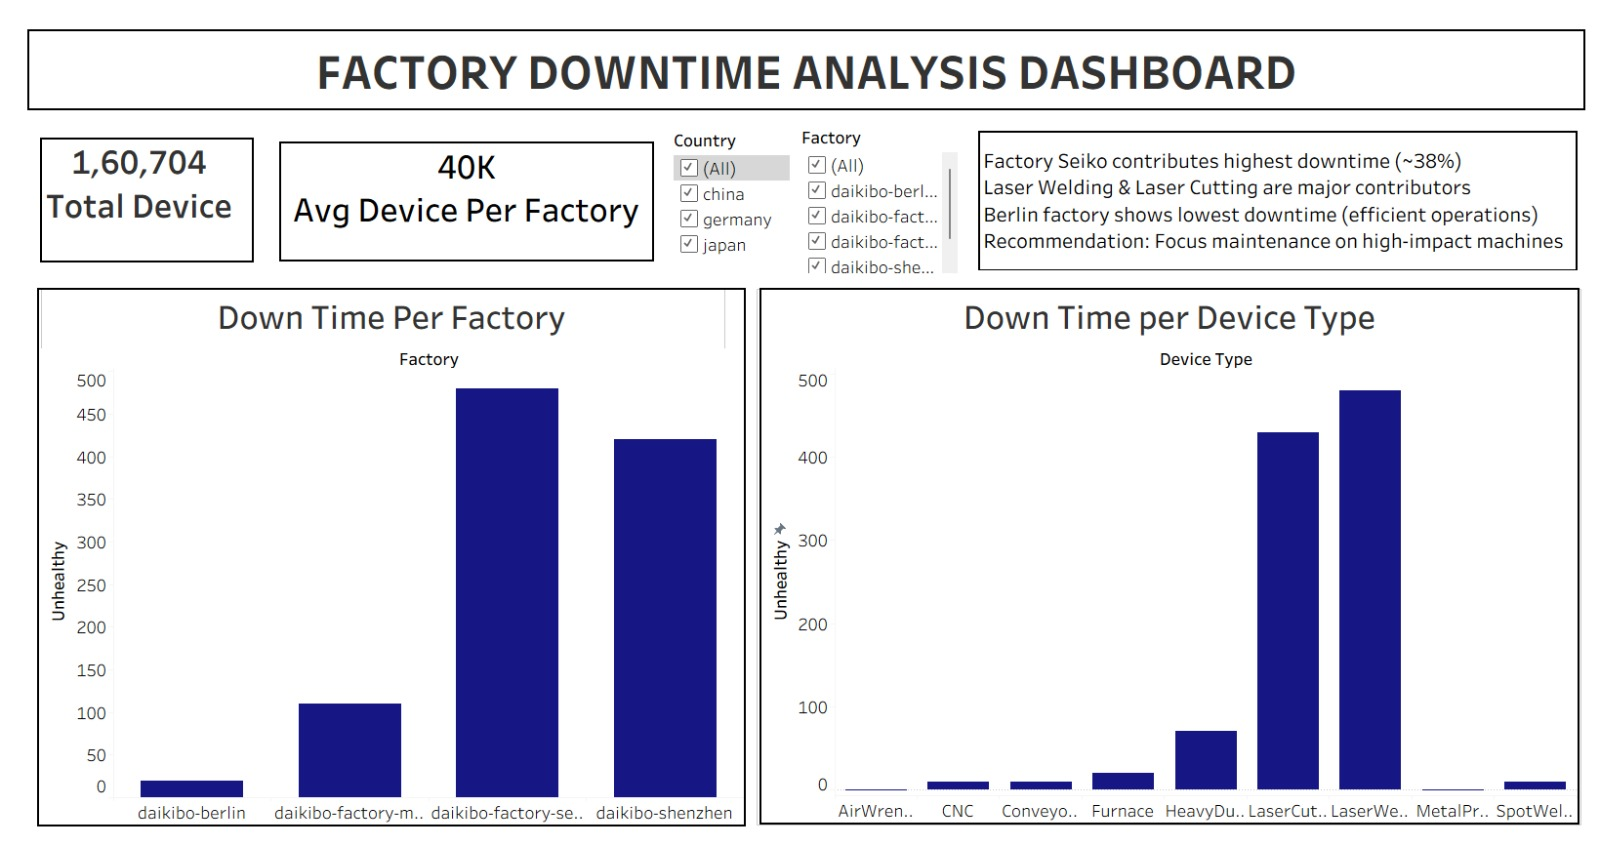

Layout of this report page (visuals, bound fields, positions):
{"tool":"tableau","page":{"name":"Dashboard 1","canvas":[1000,1000],"units":"permille","ordinal":0},"visuals":[{"type":"title","box":[4.9,10,990.1,113.5]},{"type":"filter","title":"Sheet 1","param":"[federated.0mgblln08cyjtx11puk560mcld2i].[none:factory:nk]","box":[496.9,128.4,98.8,177.1]},{"type":"filter","title":"Sheet 2","param":"[federated.0mgblln08cyjtx11puk560mcld2i].[none:country:nk]","box":[416.1,130.9,73.5,168.3]},{"type":"text","box":[608.6,134.7,379,167.1]},{"type":"worksheet","title":"KPI Total device","mark":"Automatic","box":[15.4,143.4,135.2,148.4]},{"type":"worksheet","title":"KPI Avg device Per factory","mark":"Automatic","box":[166.7,147.1,237,143.4]},{"type":"worksheet","title":"Sheet 1","mark":"Automatic","rows":["Calculation_4680928915148406784"],"cols":["factory"],"box":[13.6,321.7,448.2,642.1]},{"type":"worksheet","title":"Sheet 2","mark":"Automatic","rows":["Calculation_4680928915148406784"],"cols":["deviceType"],"box":[470.4,321.7,518.5,639.6]}]}

Visuals, with their boxes on the dashboard's canvas, which has no fixed pixel size, in thousandths of its width and height (x1, y1, x2, y2). These are canvas units, not pixel positions in the 1600x846 screenshot, which may show the page scaled, cropped or inside an application window:
title: {"x1": 5, "y1": 10, "x2": 995, "y2": 124}
"Sheet 1" filter: {"x1": 497, "y1": 128, "x2": 596, "y2": 306}
"Sheet 2" filter: {"x1": 416, "y1": 131, "x2": 490, "y2": 299}
text: {"x1": 609, "y1": 135, "x2": 988, "y2": 302}
"KPI Total device" worksheet: {"x1": 15, "y1": 143, "x2": 151, "y2": 292}
"KPI Avg device Per factory" worksheet: {"x1": 167, "y1": 147, "x2": 404, "y2": 290}
"Sheet 1" worksheet: {"x1": 14, "y1": 322, "x2": 462, "y2": 964}
"Sheet 2" worksheet: {"x1": 470, "y1": 322, "x2": 989, "y2": 961}
